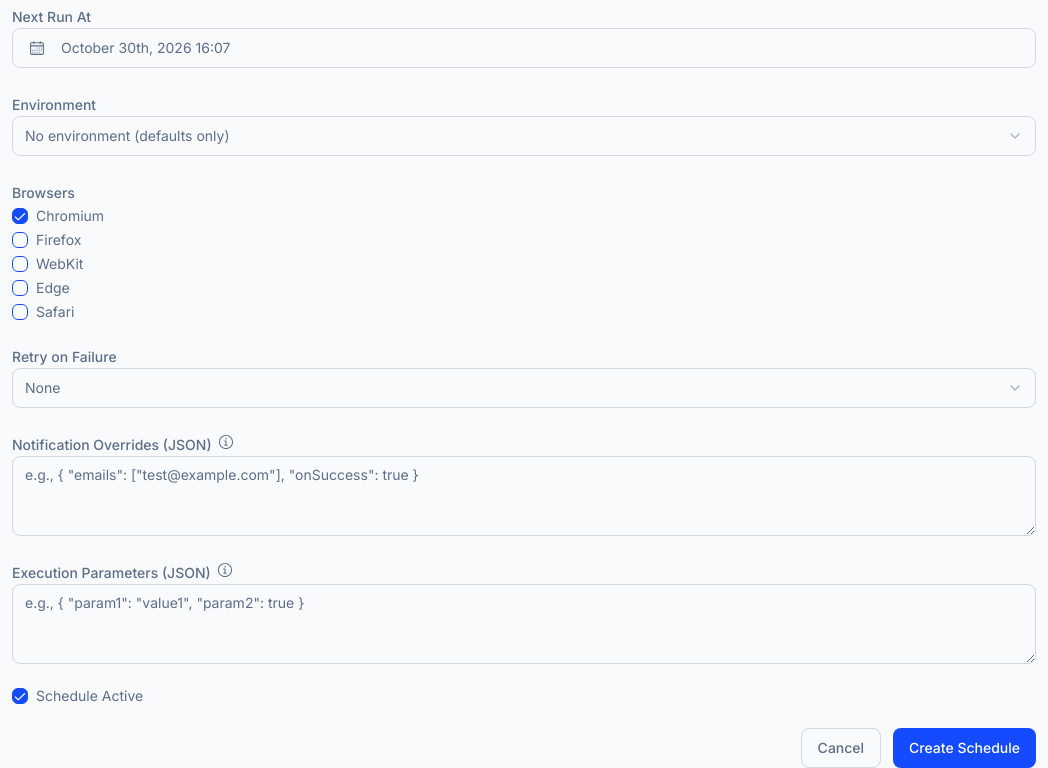
Test: ScheduleForm › shows validation errors for required fields on submit
The image size is (1048, 768).
(page scrolled)
What coordinates should you click on to do the following:
click the button "Create Schedule"
I would click on:
 (965, 748)
Its box is [893,728,1036,767].
(page scrolled)
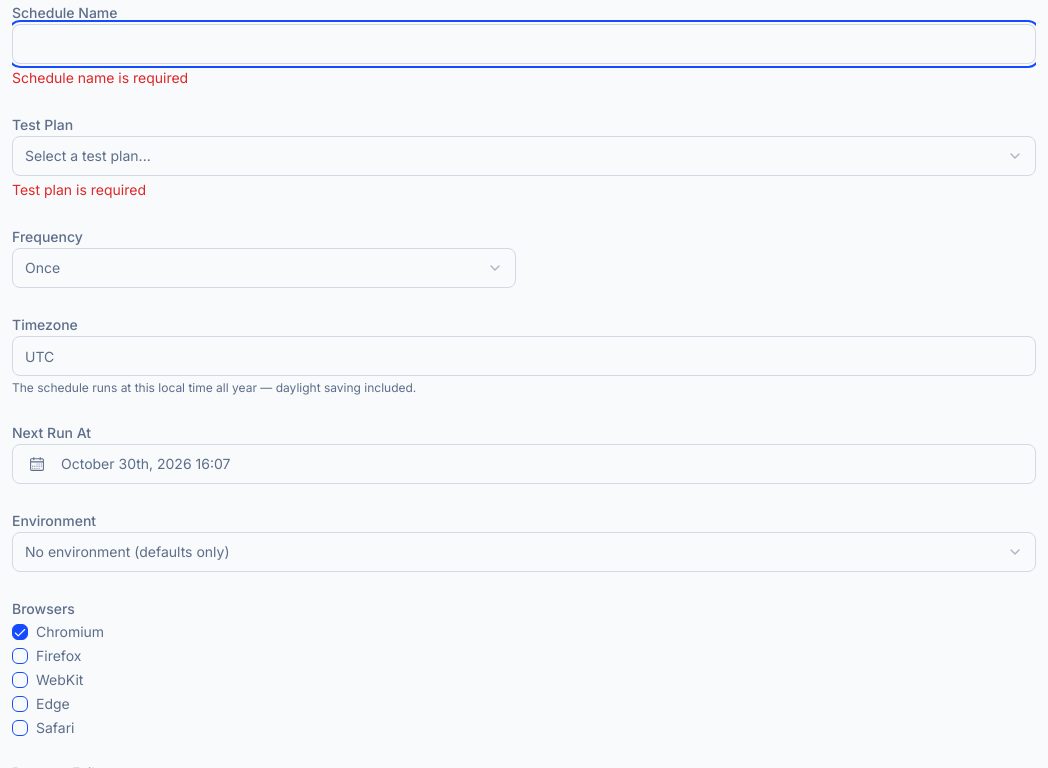
Result: the text "Schedule name is required" is shown at [12,69,188,86]
Result: the text "Test plan is required" is shown at [12,181,146,198]
